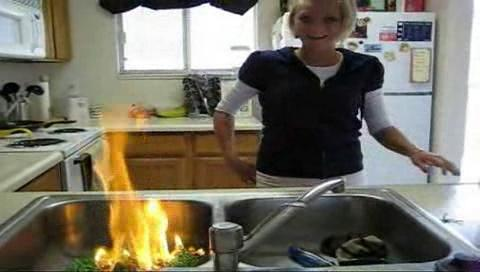fire: (91, 119, 186, 262)
